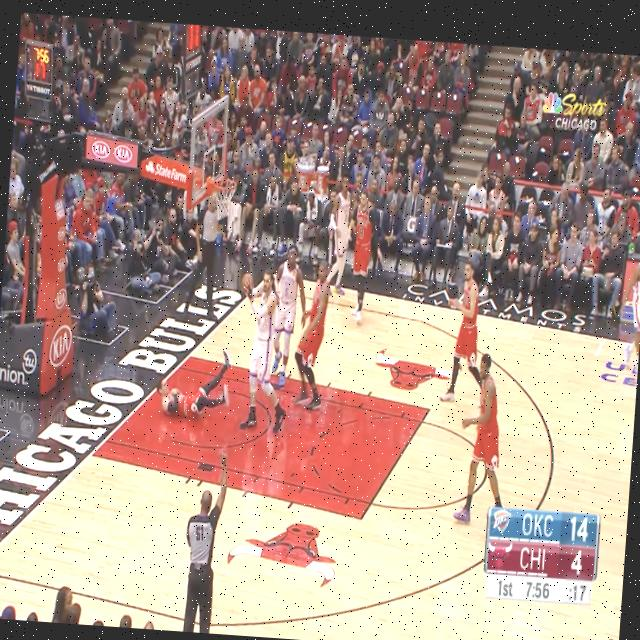foul: (140, 254, 298, 441)
no foul: (265, 243, 334, 409)
